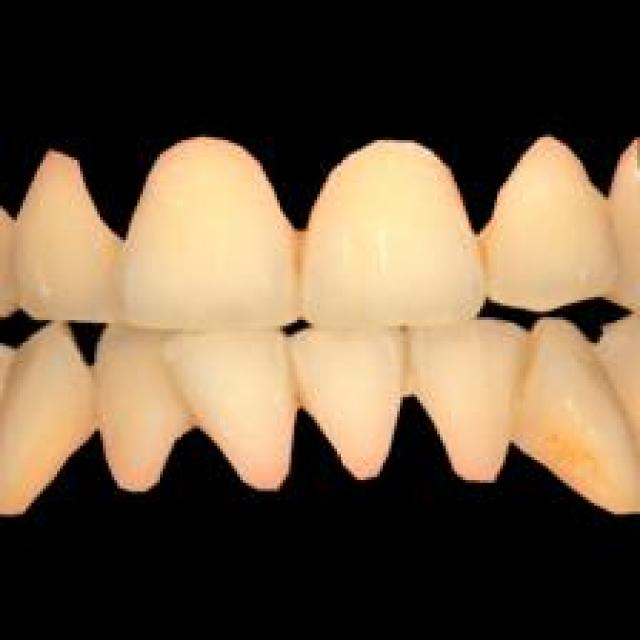cavity: (540, 403, 586, 466), (283, 220, 317, 289), (471, 226, 503, 277), (523, 328, 537, 372)
tooth: (300, 128, 489, 326), (131, 134, 300, 329), (477, 129, 606, 314), (520, 317, 637, 517), (166, 326, 294, 491), (8, 146, 123, 323), (292, 323, 417, 477), (403, 323, 514, 483), (88, 323, 192, 491), (8, 320, 83, 514)
